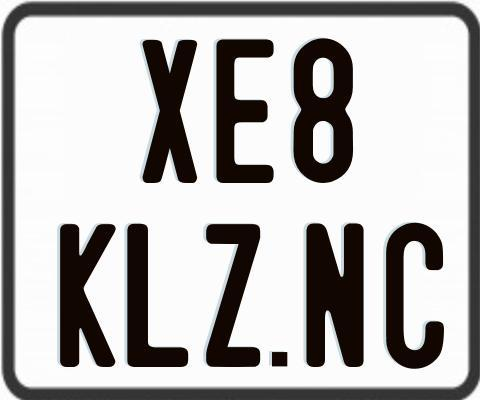8: (293, 37, 354, 188)
C: (385, 220, 447, 367)
E: (216, 39, 279, 187)
K: (59, 223, 117, 371)
L: (125, 224, 186, 373)
N: (306, 222, 365, 372)
X: (142, 37, 199, 180)
Z: (206, 222, 262, 367)
